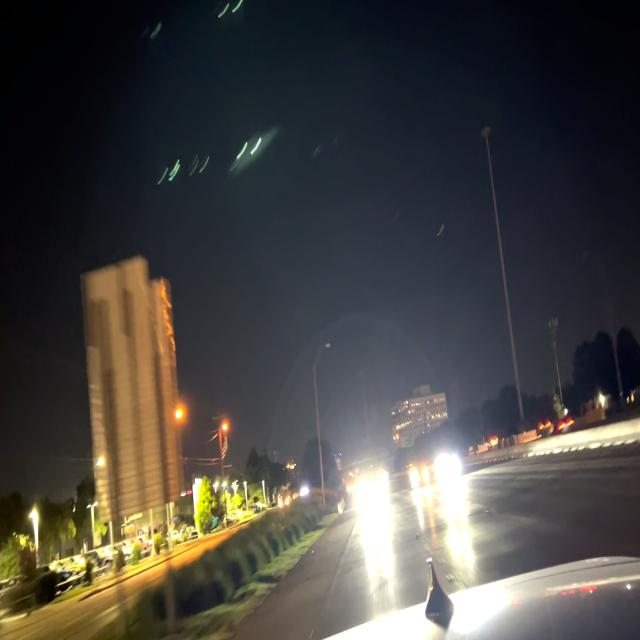back-of-sign: (81, 260, 184, 518)
